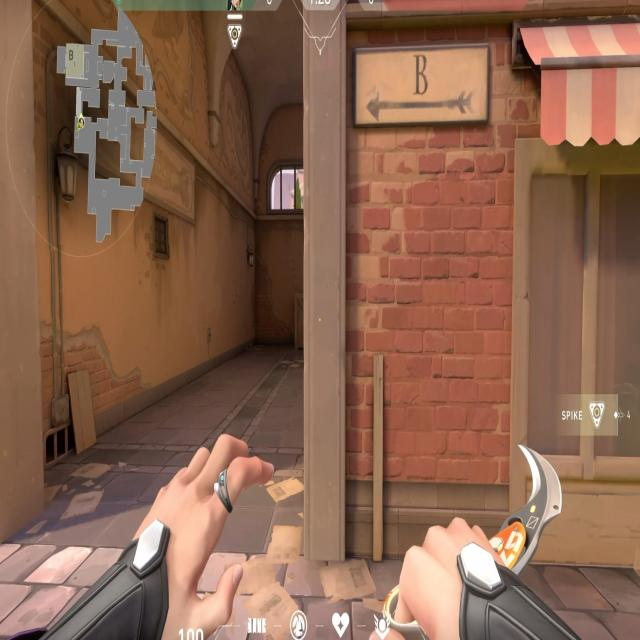Throwables: (264, 154, 305, 214)
